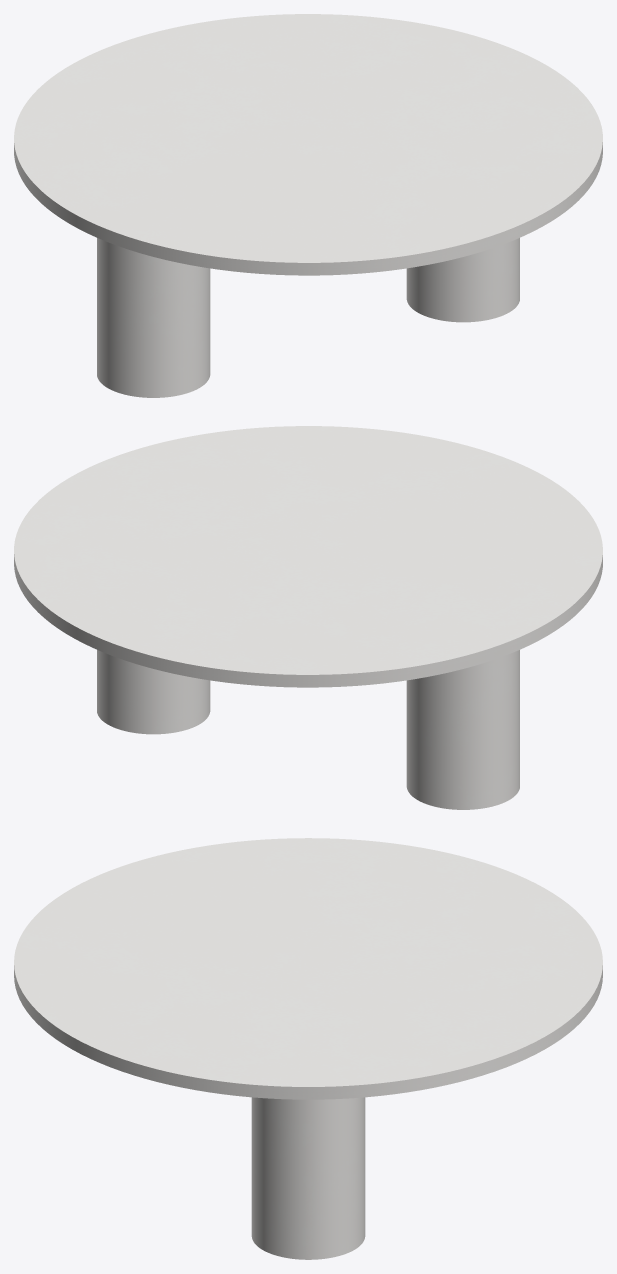
The model's file is purewhite_round_standard_stream.glb.
3 views of the same model, one above another, from view 1: azimuth 30°, elevation 25°; view 2: azimuth 150°, elevation 25°; view 3: azimuth 270°, elevation 25° (orthographic).
Visible parts, largest first — view 1: standard_round, stream; view 2: standard_round, stream; view 3: standard_round, stream.
Part boxes in pixels (x1,y1,x2,y2): standard_round: (14, 14, 602, 275); stream: (97, 238, 519, 397); standard_round: (14, 426, 602, 687); stream: (97, 650, 519, 809); standard_round: (14, 838, 602, 1099); stream: (251, 1097, 365, 1259).
Bounding box in the file's own units: 6.75 × 2.5 × 6.75.
1 material, 1 textured.
